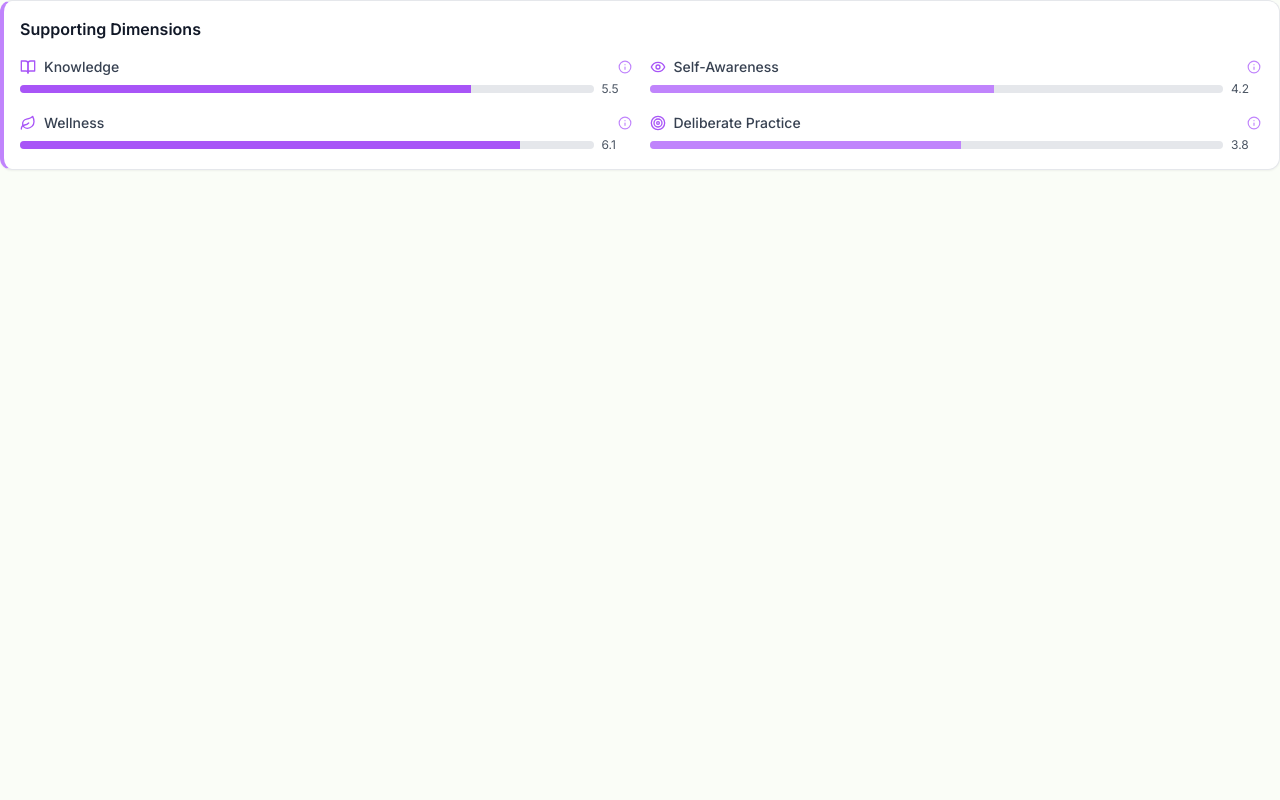
it: SupportingDimensionsCard › info button interactions › opens modal when info button is clicked
What coordinates should you click on to do the following:
click the button named "info about knowledge"
I would click on:
 (624, 67)
Its box is [616, 58, 634, 76].
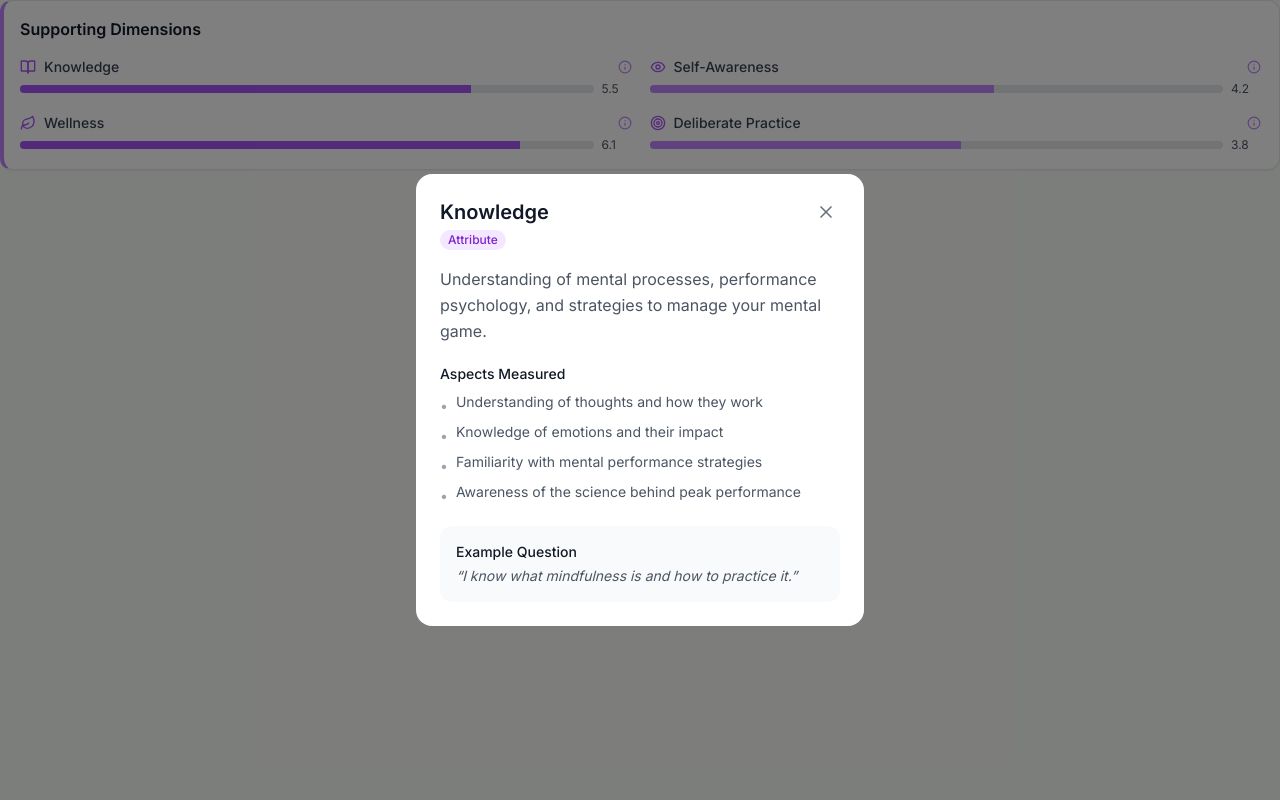
expect the heading "Knowledge" is shown: met, box [440, 198, 549, 226]
